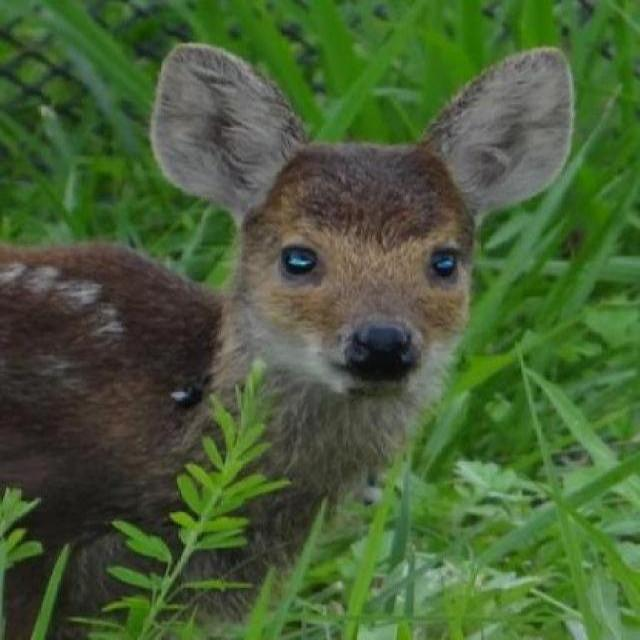deer: (0, 33, 582, 638)
